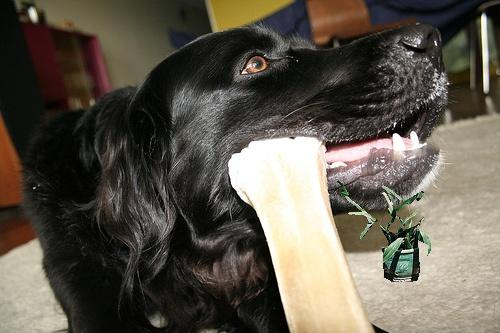tampered: (338, 181, 431, 282)
